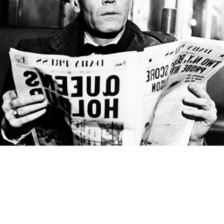news_paper: (7, 34, 224, 147)
